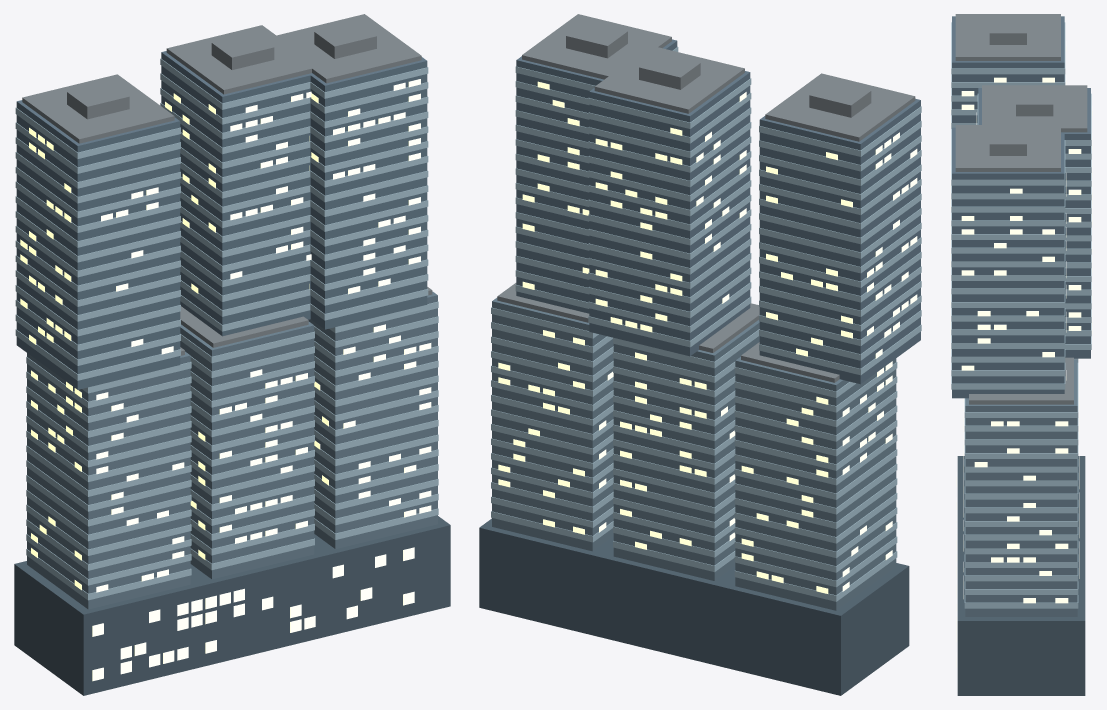
Rendered from derotterdam.glb.
3 renders of one model, left to right at view 1: azimuth 30°, elevation 25°; view 2: azimuth 150°, elevation 25°; view 3: azimuth 270°, elevation 25°, orthographic. The views are drawn at different scales.
Visible parts, largest first — view 1: plint, blok01, blok00, blok11, blok10, blok21, blok20, dak01, dak11, dak21, plintramen-licht, licht21-1-licht (+104 smaller); view 2: plint, blok01, blok11, blok00, blok10, blok20, blok21, dak01, dak11, dak21, licht111-licht, licht101-licht (+90 smaller); view 3: blok21, blok20, plint, dak01, dak21, blok11, dak11, blok01, dak20, lichtz201-licht, lichtz211-licht, installatie1 (+38 smaller).
Boxes of the visible parts, x1,y1,x2,y2 form: plint: [14, 516, 450, 695]; blok01: [16, 100, 180, 389]; blok00: [27, 351, 190, 609]; blok11: [161, 51, 312, 336]; blok10: [180, 321, 314, 579]; blok21: [309, 57, 427, 329]; blok20: [308, 291, 437, 549]; dak01: [22, 74, 174, 143]; dak11: [166, 25, 318, 94]; dak21: [273, 14, 421, 83]; plintramen-licht: [92, 547, 414, 681]; licht21-1-licht: [333, 79, 420, 294]; plint: [479, 518, 909, 695]; blok01: [759, 98, 920, 384]; blok11: [589, 71, 750, 356]; blok00: [735, 357, 896, 610]; blok10: [613, 320, 759, 580]; blok20: [492, 297, 613, 551]; blok21: [516, 39, 677, 313]; dak01: [765, 73, 915, 141]; dak11: [594, 45, 744, 113]; dak21: [522, 14, 671, 79]; licht111-licht: [595, 127, 682, 332]; licht101-licht: [620, 352, 706, 549]; blok21: [952, 127, 1064, 398]; blok20: [965, 360, 1077, 616]; plint: [957, 456, 1085, 695]; dak01: [955, 14, 1060, 60]; dak21: [955, 125, 1060, 171]; blok11: [978, 88, 1090, 358]; dak11: [982, 85, 1087, 132]; blok01: [952, 16, 1064, 122]; dak20: [969, 357, 1073, 404]; lichtz201-licht: [974, 421, 1068, 603]; lichtz211-licht: [961, 188, 1054, 370]; installatie1: [1016, 85, 1053, 116].
Bounding box in the file's own units: 107 × 155 × 37.82.
